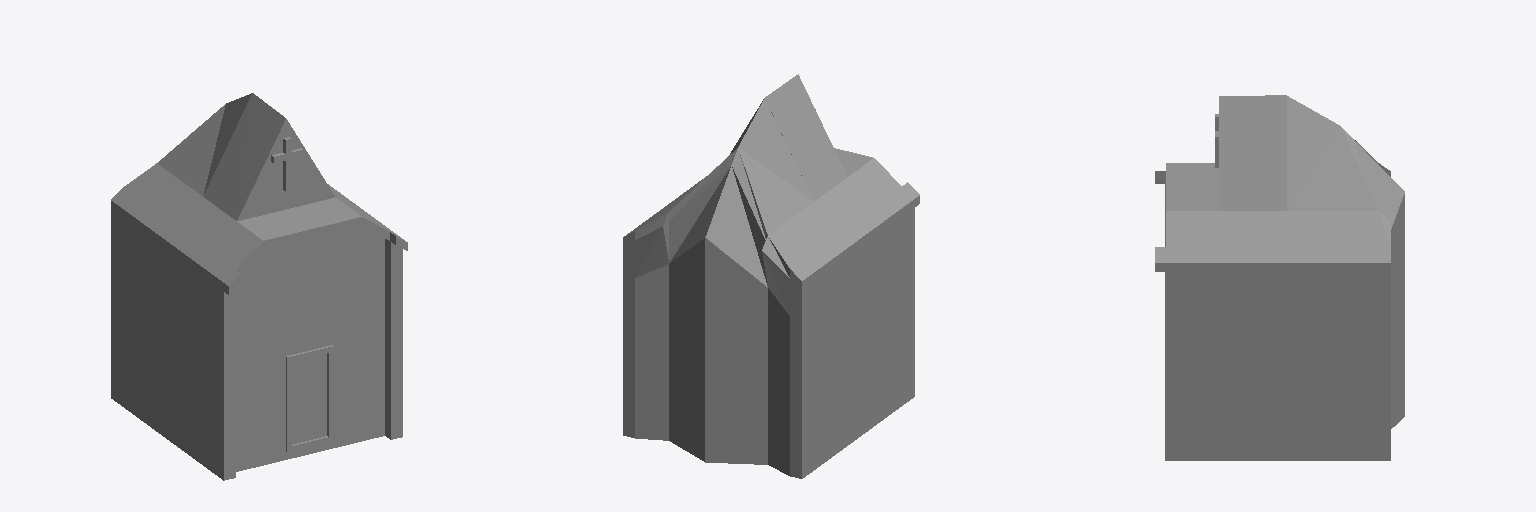
File: church.obj
The picture shows the model from 3 angles: view 1: azimuth 30°, elevation 25°; view 2: azimuth 150°, elevation 25°; view 3: azimuth 270°, elevation 25°; orthographic projection.
Size of the model in its own units: 2.05 by 3.51 by 2.47.